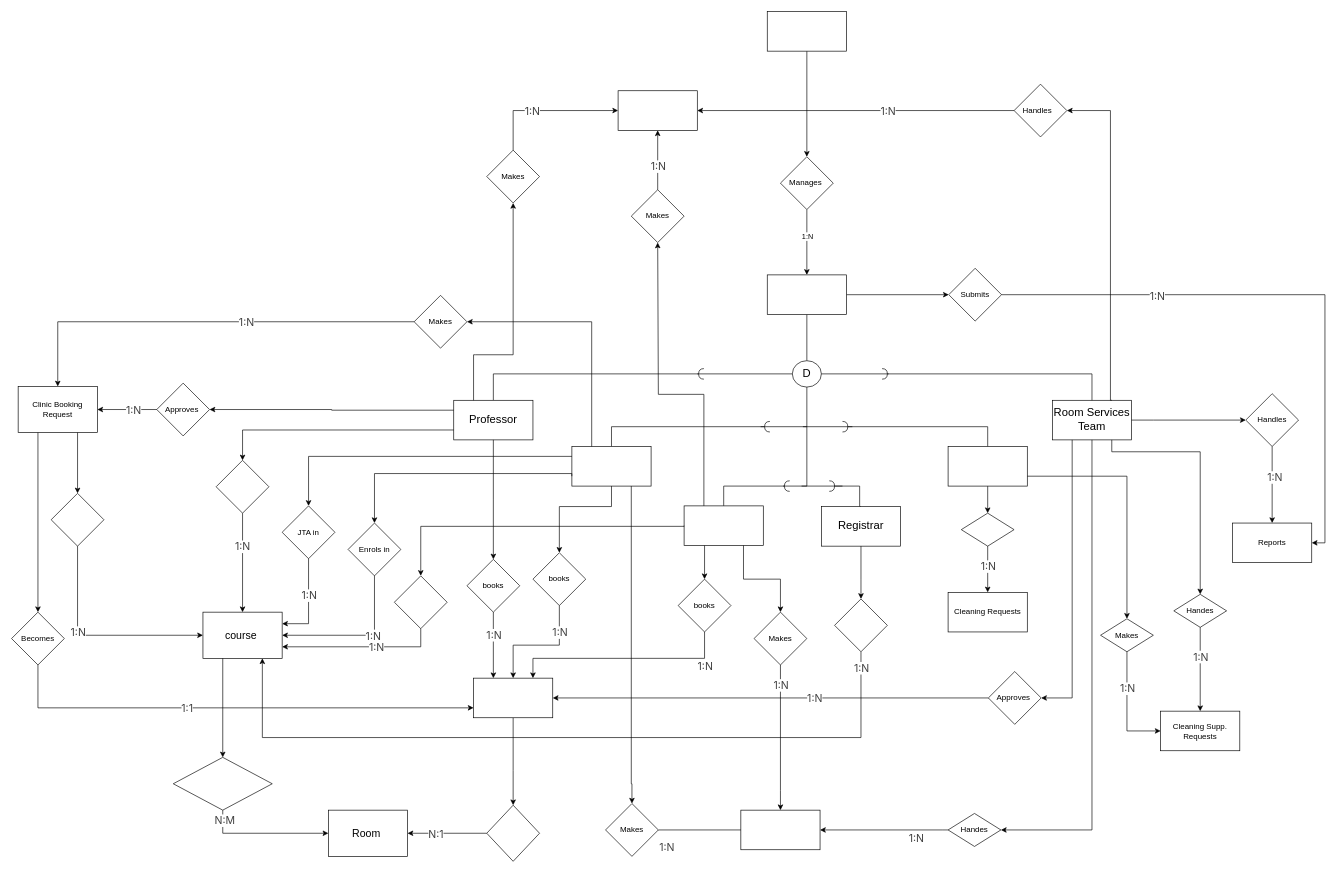
Image size: 1342x873. Some labels were removed from this diagram. Here are the shapes that lost their labels. From the top down, the centre of each, then its label:
At point (806, 31): "ADMIN".
At point (657, 110): "Room Change Request".
At point (806, 294): "User".
At point (242, 486): "Coordinates".
At point (611, 466): "Student".
At point (987, 466): "Cleaning Staff".
At point (77, 519): "Clinic/ Course".
At point (723, 525): "TA".
At point (987, 529): "Cleans".
At point (420, 602): "Teaches in".
At point (860, 625): "CREATES".
At point (513, 697): "Room Booking Request".
At point (222, 783): "SCHEDULED_IN".
At point (513, 833): "OCCURS in".
At point (780, 829): "Additional Quota Requests".
